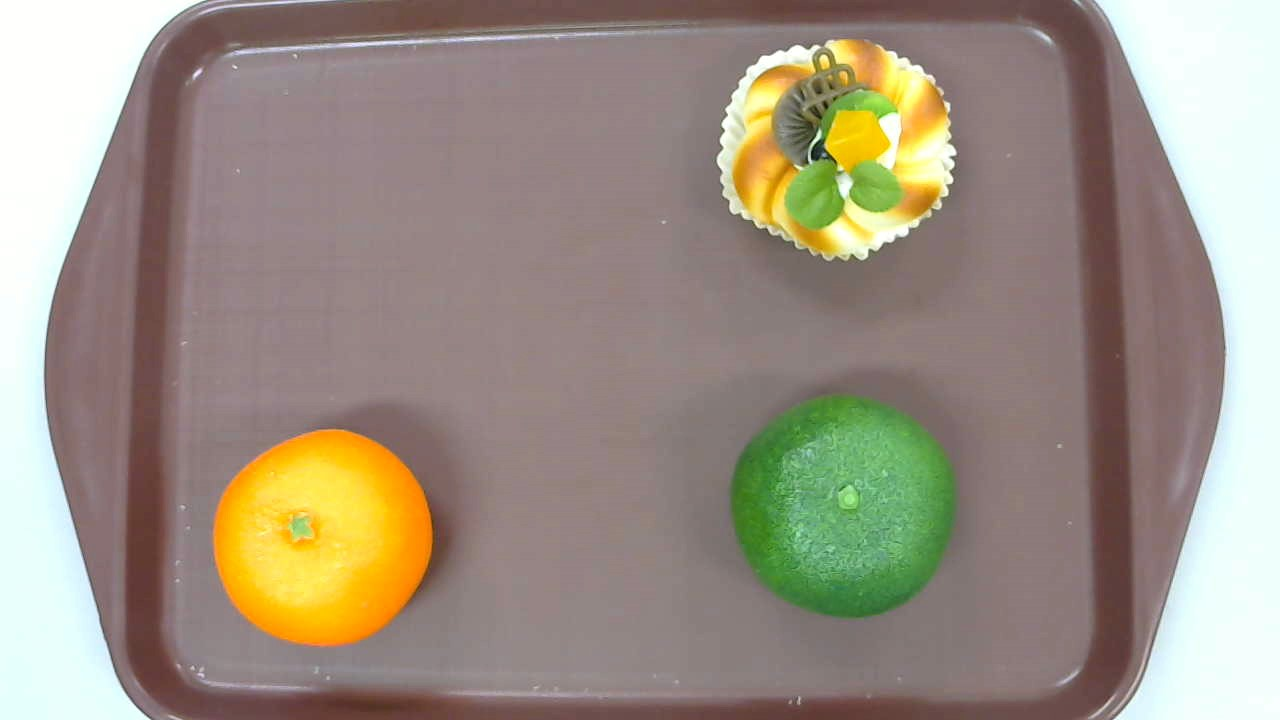fruit tart: (716, 37, 957, 261)
green orange: (730, 391, 960, 619)
orange: (214, 428, 431, 648)
